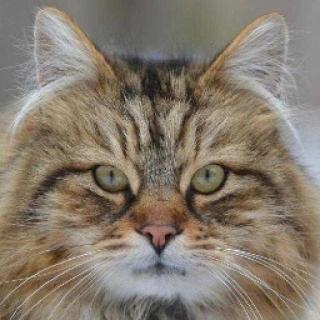cat: (30, 8, 292, 311)
nose: (130, 197, 187, 260)
